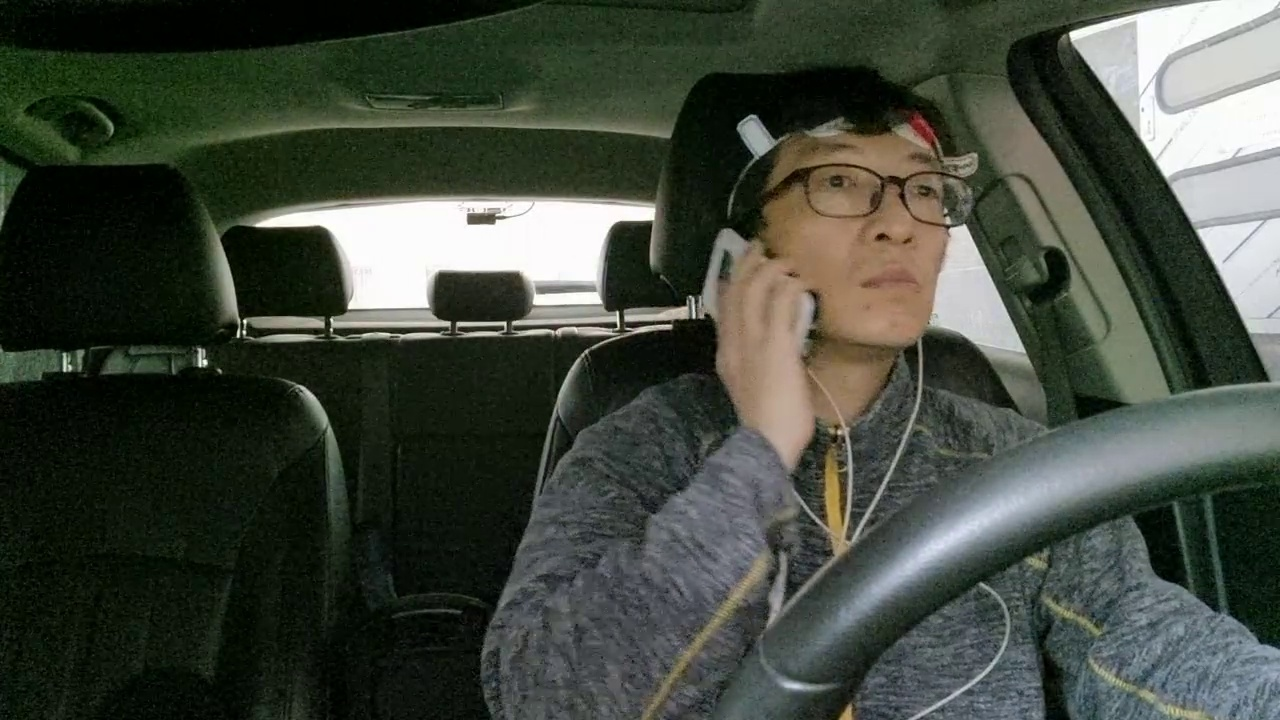phone: (669, 195, 839, 402)
